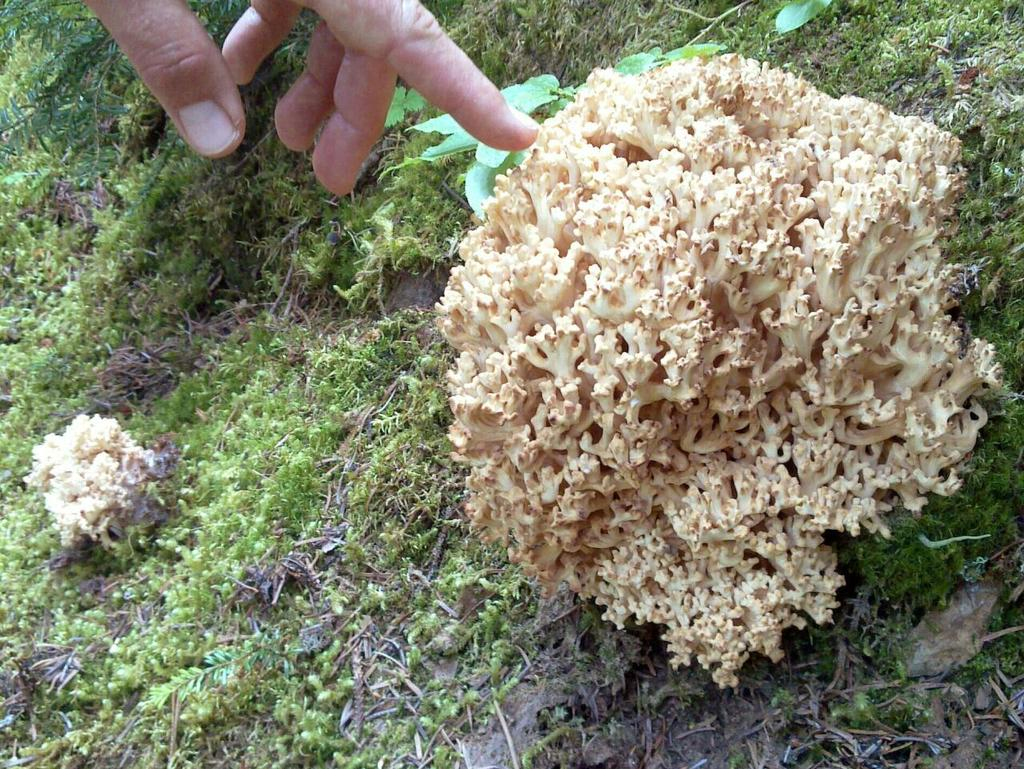Human_hand: (82, 0, 540, 196)
